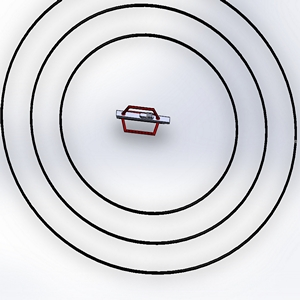circle: (1, 1, 299, 284)
submarine: (109, 91, 177, 151)
